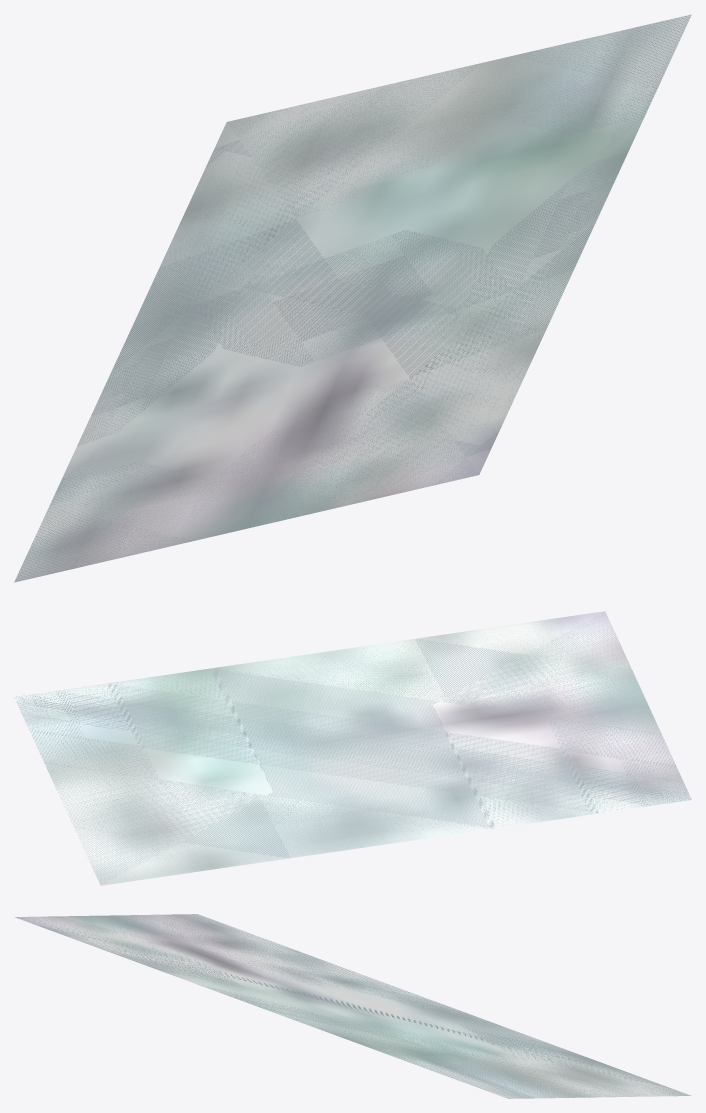
File: 西庸城堡315.dae
3 renders of one model, top to bottom at view 1: azimuth 30°, elevation 25°; view 2: azimuth 150°, elevation 25°; view 3: azimuth 270°, elevation 25°, orthographic. The views are drawn at different scales.
Visible parts, largest first — view 1: SketchUp; view 2: SketchUp; view 3: SketchUp.
Part boxes in pixels (left/top/right/bottom): SketchUp: left=14, top=14, right=691, bottom=582; SketchUp: left=14, top=611, right=691, bottom=885; SketchUp: left=14, top=914, right=691, bottom=1098.
Bounding box in the file's own units: 63.18 × 66.79 × 9.37.
